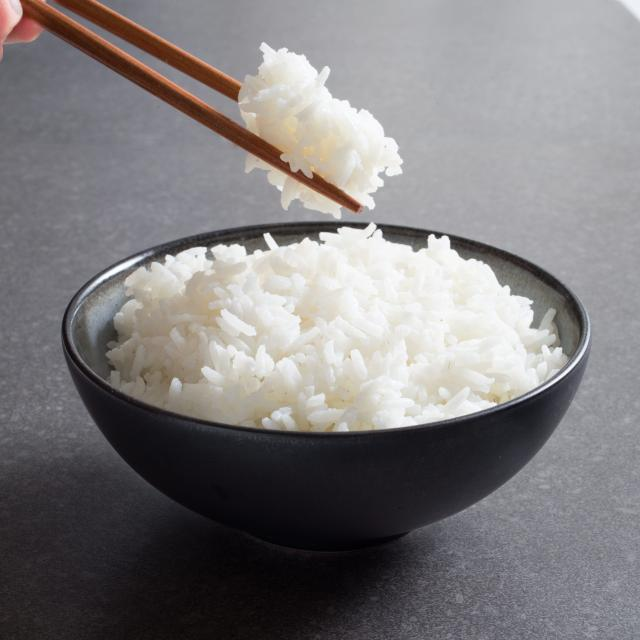Wet Waste: (99, 227, 577, 450), (216, 36, 412, 222)
